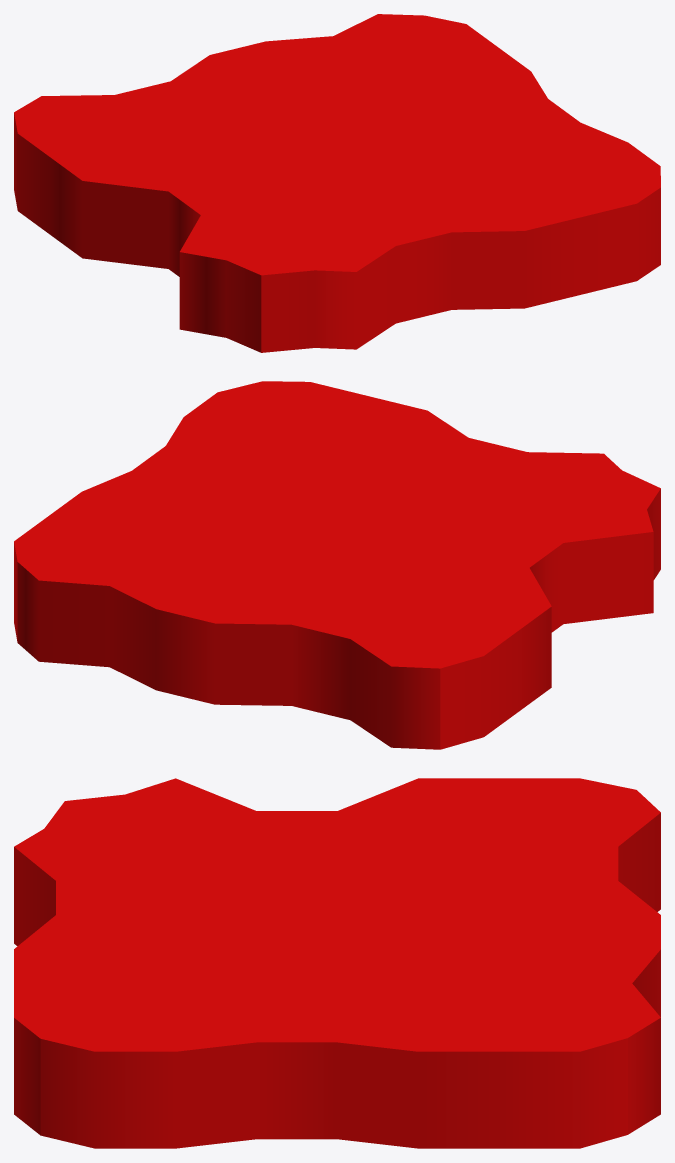
The model's file is blood.fbx.
3 views of the same model, one above another, from view 1: azimuth 30°, elevation 25°; view 2: azimuth 150°, elevation 25°; view 3: azimuth 270°, elevation 25° (orthographic). The views are drawn at different scales.
Parts seen in each view (by area): view 1: pCube199; view 2: pCube199; view 3: pCube199.
Part boxes in pixels (x1=…): pCube199: x1=14, y1=14, x2=660, y2=352; pCube199: x1=14, y1=381, x2=660, y2=749; pCube199: x1=14, y1=778, x2=660, y2=1148.
Size of the model in its own units: 3 by 0.4955 by 3.
